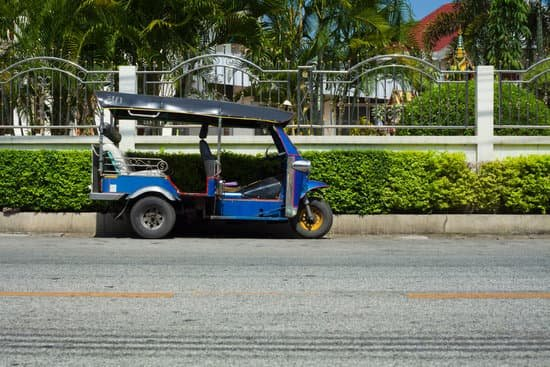threewheel: (88, 90, 334, 239)
